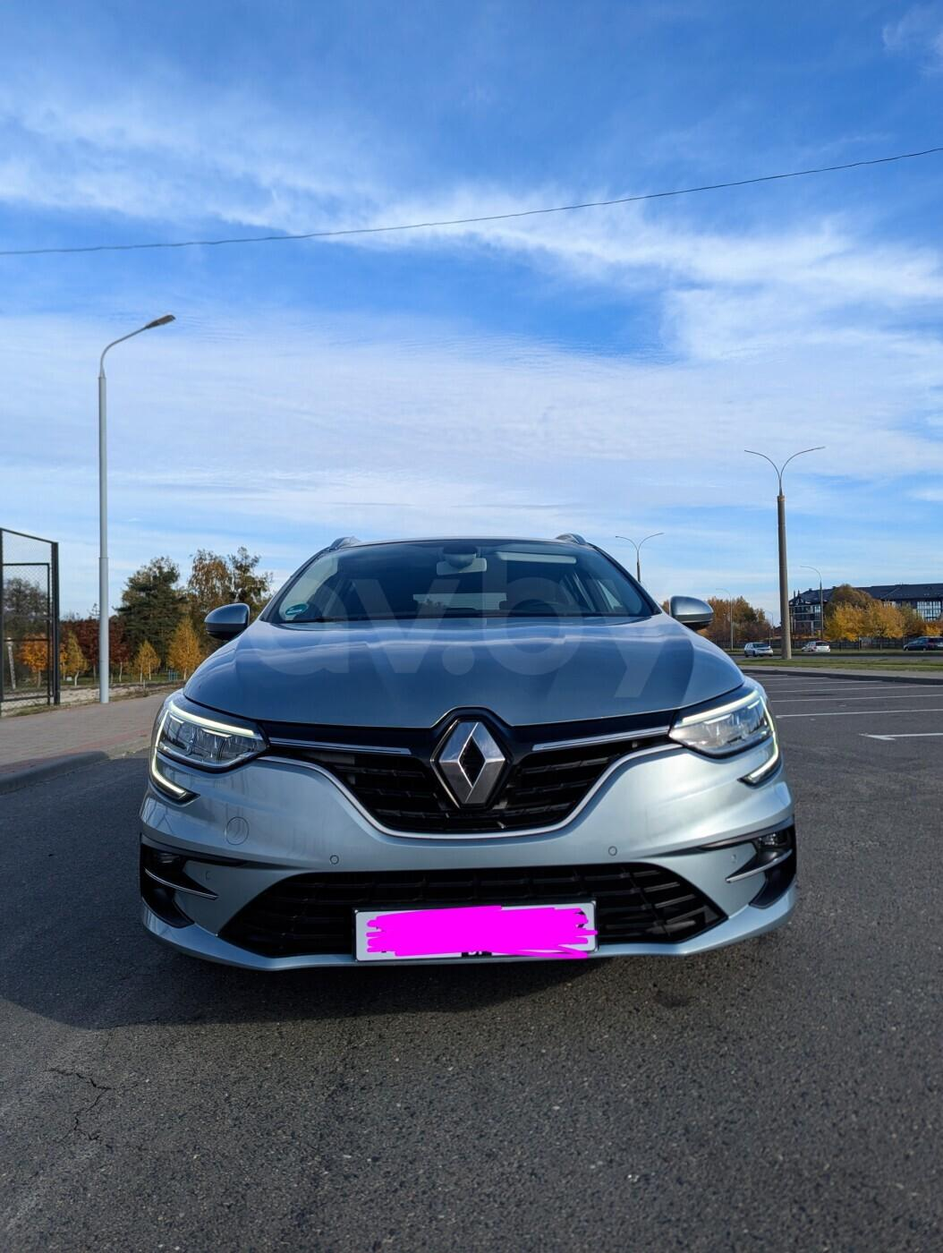Megane_2020: (123, 523, 823, 1020)
